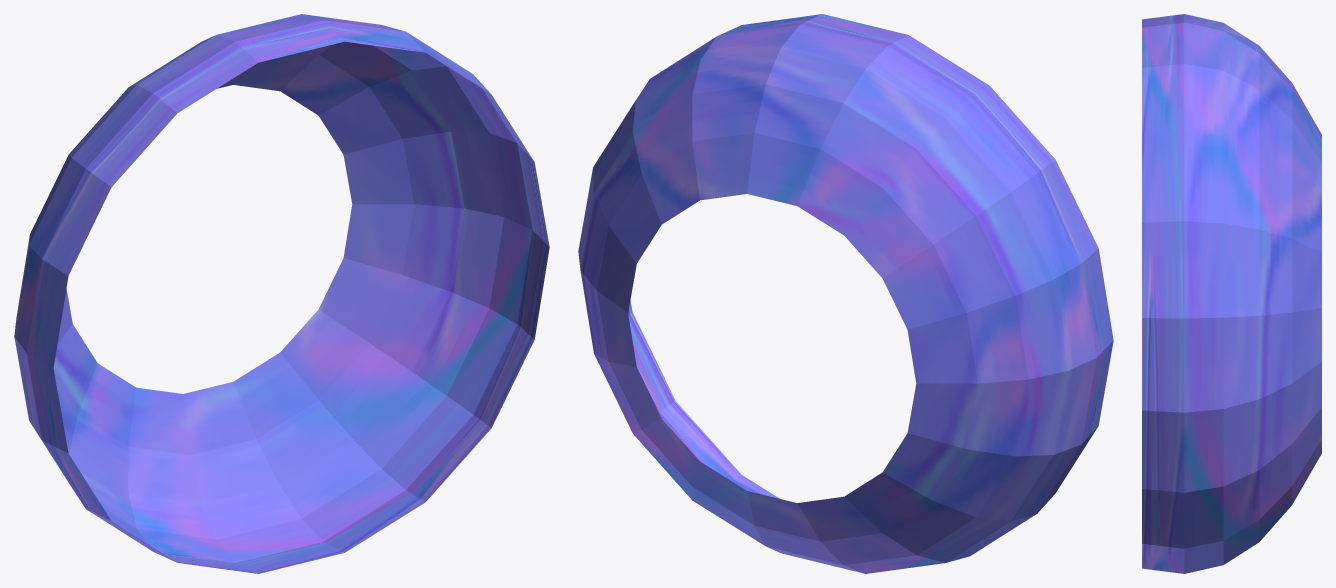
File: tx_huimiefuchou_fire.obj
3 views of the same model, side by side, from view 1: azimuth 30°, elevation 25°; view 2: azimuth 150°, elevation 25°; view 3: azimuth 270°, elevation 25° (orthographic). The views are drawn at different scales.
Visible parts, largest first — view 1: 0714_03_bump; view 2: 0714_03_bump; view 3: 0714_03_bump.
Part boxes in pixels (x1,y1,x2,y2): 0714_03_bump: [14, 14, 549, 573]; 0714_03_bump: [578, 14, 1113, 573]; 0714_03_bump: [1142, 14, 1321, 573].
Size of the model in its own units: 414 by 407 by 132.
1 material, 1 textured.
